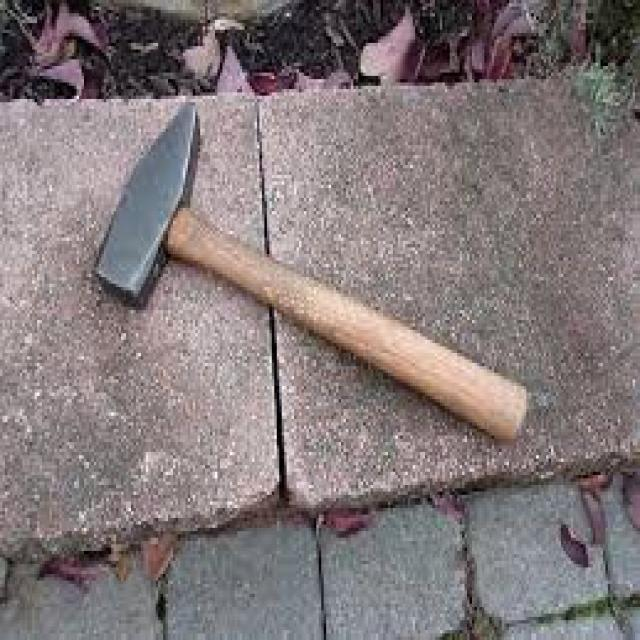hammer: (88, 98, 538, 450)
